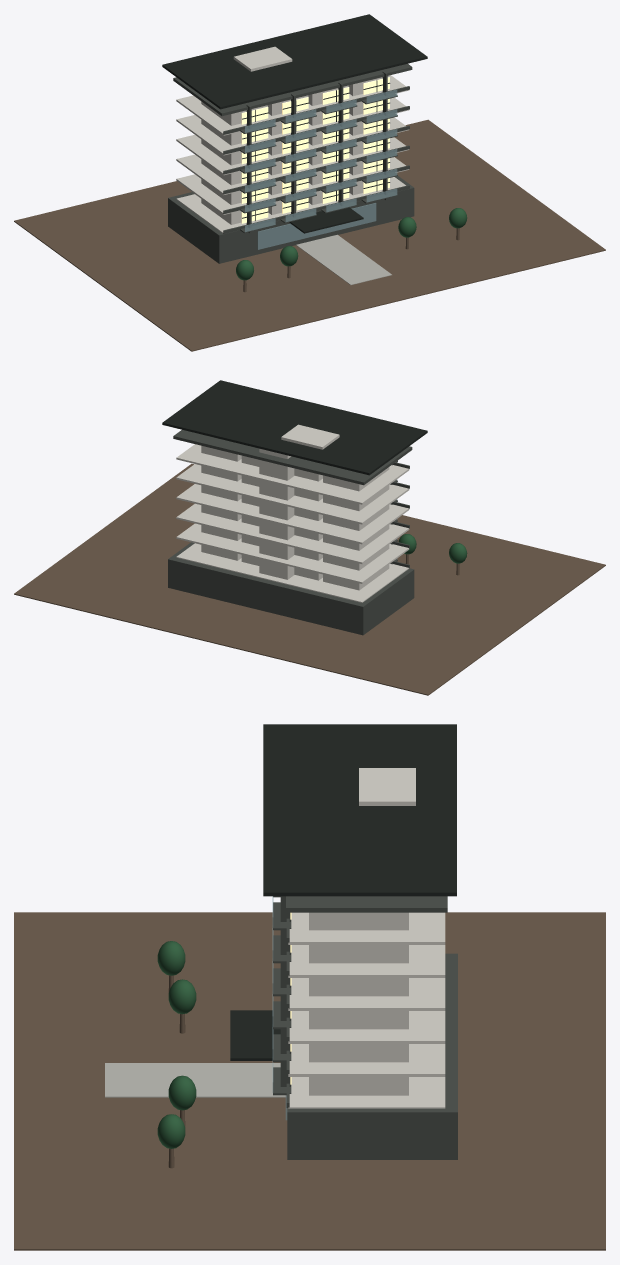
File: vertica-building.glb
3 views of the same model, one above another, from view 1: azimuth 30°, elevation 25°; view 2: azimuth 150°, elevation 25°; view 3: azimuth 270°, elevation 25° (orthographic). The views are drawn at different scales.
Visible parts, largest first — view 1: SITE_GROUND, ARCH_ROOF_OVERHANG, ARCH_PODIUM, ENTRY_WALK, ARCH_ROOF, ARCH_LOBBY_GLASS, SLAB_5, SLAB_6, SLAB_3, SLAB_4, SLAB_7, SLAB_2 (+12 smaller); view 2: SITE_GROUND, ARCH_ROOF_OVERHANG, ARCH_PODIUM, ARCH_CORE, SLAB_3, SLAB_4, SLAB_5, SLAB_6, SLAB_7, SLAB_2, ARCH_ROOF, ARCH_ROOF_HOUSE (+5 smaller); view 3: SITE_GROUND, ARCH_ROOF_OVERHANG, ARCH_PODIUM, ENTRY_WALK, SLAB_3, SLAB_4, SLAB_5, SLAB_6, SLAB_7, SLAB_2, ARCH_ROOF, ARCH_ENTRY_CANOPY (+12 smaller).
Boxes of the visible parts, x1,y1,x2,y2 form: SITE_GROUND: [14, 119, 605, 351]; ARCH_ROOF_OVERHANG: [162, 14, 427, 109]; ARCH_PODIUM: [168, 176, 414, 263]; ENTRY_WALK: [296, 234, 391, 284]; ARCH_ROOF: [173, 63, 412, 116]; ARCH_LOBBY_GLASS: [257, 203, 376, 249]; SLAB_5: [176, 117, 409, 175]; SLAB_6: [176, 97, 408, 155]; SLAB_3: [176, 157, 409, 214]; SLAB_4: [176, 137, 409, 195]; SLAB_7: [176, 75, 409, 135]; SLAB_2: [176, 177, 405, 233]; SITE_GROUND: [14, 463, 605, 695]; ARCH_ROOF_OVERHANG: [162, 380, 427, 475]; ARCH_PODIUM: [168, 542, 414, 635]; ARCH_CORE: [259, 448, 294, 579]; SLAB_3: [176, 523, 409, 583]; SLAB_4: [176, 503, 409, 563]; SLAB_5: [176, 484, 409, 544]; SLAB_6: [176, 464, 409, 524]; SLAB_7: [176, 444, 409, 504]; SLAB_2: [176, 543, 408, 602]; ARCH_ROOF: [173, 429, 412, 485]; ARCH_ROOF_HOUSE: [281, 424, 339, 449]; SITE_GROUND: [14, 912, 605, 1250]; ARCH_ROOF_OVERHANG: [263, 724, 456, 896]; ARCH_PODIUM: [287, 953, 457, 1159]; ENTRY_WALK: [105, 1063, 286, 1097]; SLAB_3: [288, 1044, 445, 1076]; SLAB_4: [288, 1011, 445, 1043]; SLAB_5: [288, 978, 445, 1010]; SLAB_6: [288, 945, 445, 977]; SLAB_7: [288, 912, 445, 944]; SLAB_2: [288, 1077, 445, 1108]; ARCH_ROOF: [286, 896, 447, 912]; ARCH_ENTRY_CANOPY: [230, 1010, 280, 1060].
Size of what is drawn, in the model's own units: 70 by 26.98 by 52.
